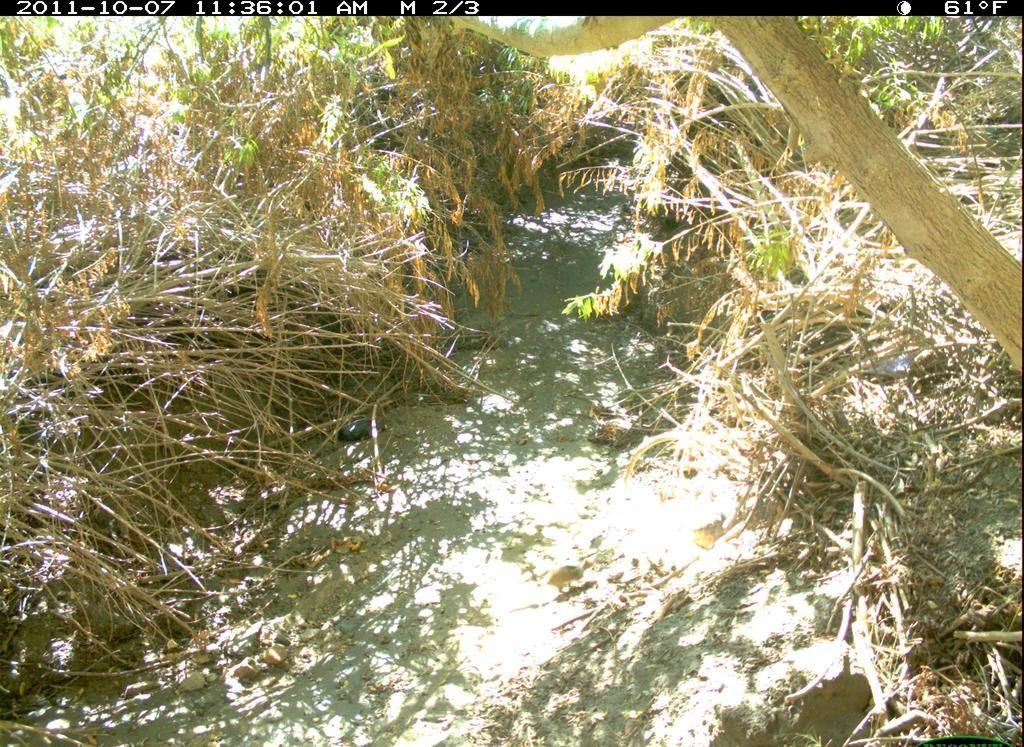squirrel: (529, 551, 602, 605)
